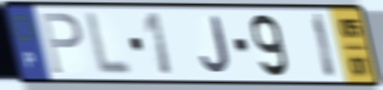1: (143, 10, 173, 79)
9: (249, 13, 290, 79)
I: (310, 10, 339, 81)
J: (199, 15, 232, 76)
L: (84, 9, 135, 79)
P: (38, 10, 85, 77)
